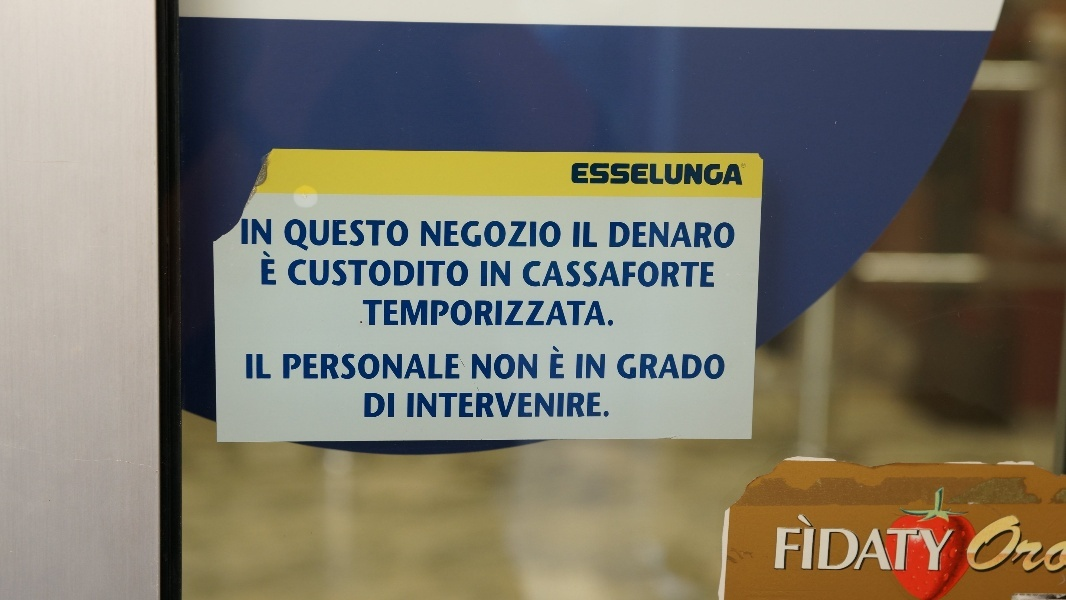text: (785, 515, 800, 574), (801, 515, 816, 574), (817, 515, 832, 574), (833, 515, 848, 574), (849, 515, 864, 574), (865, 515, 880, 574), (881, 515, 896, 574), (897, 515, 912, 574), (913, 515, 928, 574), (929, 515, 944, 574), (977, 515, 992, 574), (993, 515, 1008, 574), (1009, 515, 1024, 574), (1025, 515, 1040, 574), (945, 515, 958, 574), (289, 219, 304, 253), (305, 219, 320, 253), (321, 219, 336, 253), (337, 219, 352, 253), (353, 219, 368, 253), (369, 219, 384, 253), (385, 219, 400, 253), (776, 515, 784, 574), (305, 259, 320, 288), (321, 259, 336, 288), (337, 259, 352, 288), (353, 259, 368, 288), (369, 259, 384, 288), (385, 259, 400, 288), (401, 259, 416, 288), (417, 259, 432, 288), (433, 259, 448, 288), (449, 259, 464, 288), (545, 221, 561, 248), (290, 259, 304, 288), (257, 218, 272, 245), (433, 221, 448, 248), (449, 221, 464, 248), (465, 221, 480, 248), (481, 221, 496, 248), (497, 221, 512, 248), (513, 221, 528, 248), (529, 221, 544, 248), (529, 261, 544, 288), (545, 261, 560, 288), (561, 261, 576, 288), (577, 261, 592, 288), (593, 261, 608, 288), (609, 261, 624, 288), (625, 261, 640, 288), (641, 261, 656, 288), (657, 261, 672, 288), (673, 261, 688, 288), (689, 261, 704, 288), (625, 354, 640, 381), (641, 354, 656, 381), (657, 354, 672, 381), (673, 354, 688, 381), (689, 354, 704, 381), (705, 354, 720, 381), (369, 300, 384, 326), (385, 300, 400, 326), (401, 300, 416, 326), (417, 300, 432, 326), (433, 300, 448, 326), (449, 300, 464, 326), (465, 300, 480, 326), (481, 300, 496, 326), (497, 300, 512, 326), (513, 300, 528, 326), (529, 300, 544, 326), (545, 300, 560, 326), (561, 300, 576, 326), (577, 300, 592, 326), (593, 300, 608, 326), (577, 222, 592, 248), (625, 222, 640, 248), (641, 222, 656, 248), (657, 222, 672, 248), (673, 222, 688, 248), (689, 222, 704, 248), (705, 222, 720, 248), (289, 354, 304, 380), (305, 354, 320, 380), (321, 354, 336, 380), (337, 354, 352, 380), (353, 354, 368, 380), (369, 354, 384, 380), (385, 354, 400, 380), (401, 354, 416, 380), (417, 354, 432, 380), (433, 354, 448, 380), (481, 354, 496, 380), (497, 354, 512, 380), (513, 354, 528, 380), (577, 354, 592, 380), (242, 218, 256, 245), (482, 261, 496, 288), (369, 393, 384, 418), (417, 393, 432, 418), (433, 393, 448, 418), (449, 393, 464, 418), (465, 393, 480, 418), (481, 393, 496, 418), (497, 393, 512, 418), (513, 393, 528, 418), (529, 393, 544, 418), (545, 393, 560, 418), (561, 393, 576, 418), (577, 393, 592, 418), (593, 393, 608, 418), (610, 222, 624, 248), (721, 222, 735, 248), (497, 261, 510, 288), (262, 251, 272, 286), (257, 354, 271, 379), (577, 163, 592, 186), (593, 163, 608, 186), (609, 163, 624, 186), (625, 163, 640, 186), (641, 163, 656, 186), (657, 163, 672, 186), (673, 163, 688, 186), (689, 163, 704, 186), (705, 163, 720, 186), (721, 163, 736, 186), (593, 354, 605, 380), (551, 346, 560, 379), (1041, 515, 1046, 574), (449, 354, 460, 380), (422, 221, 432, 248), (246, 354, 256, 379), (385, 393, 395, 418), (705, 261, 714, 288), (401, 219, 408, 253), (529, 354, 537, 380), (408, 393, 416, 418), (617, 354, 624, 381), (361, 300, 368, 326), (609, 300, 616, 326), (473, 354, 480, 380), (737, 163, 743, 186), (465, 259, 469, 288), (524, 261, 528, 288), (721, 354, 725, 381), (273, 251, 276, 286), (593, 222, 597, 248), (284, 354, 288, 380), (285, 219, 288, 253), (561, 346, 564, 379), (572, 163, 576, 186), (365, 393, 368, 418), (609, 393, 612, 418), (574, 222, 576, 248), (743, 164, 752, 167)
